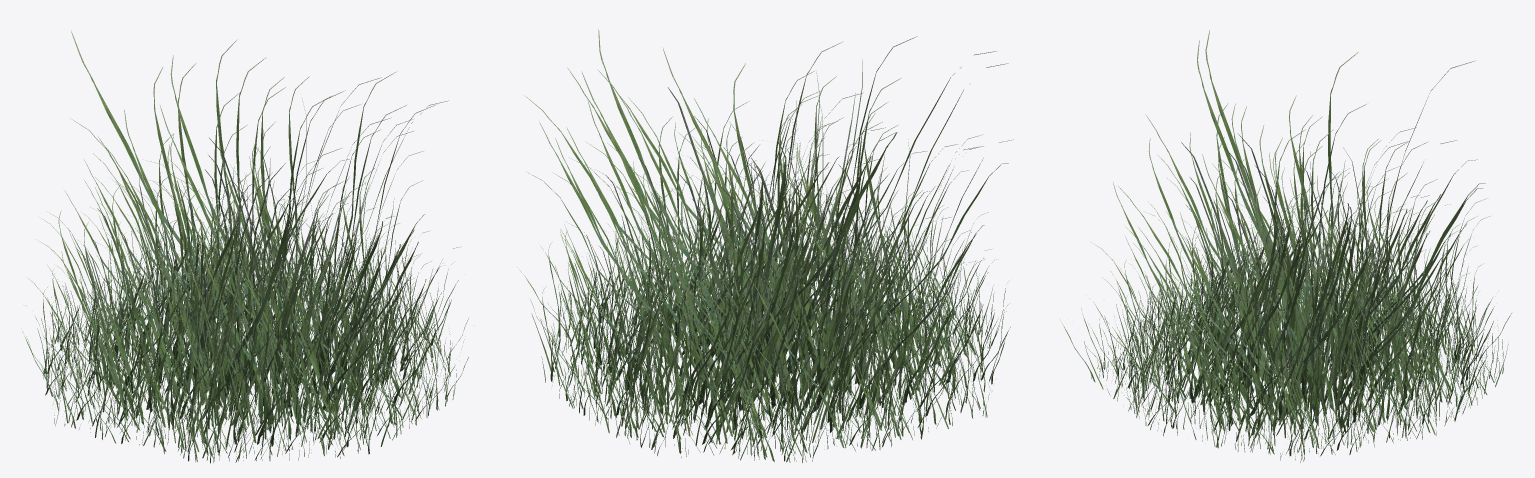
Rendered from BuffaloGrass.glb.
3 views of the same model, side by side, from view 1: azimuth 30°, elevation 25°; view 2: azimuth 150°, elevation 25°; view 3: azimuth 270°, elevation 25° (orthographic). The views are drawn at different scales.
Parts seen in each view (by area): view 1: BuffaloGrass_01, BuffaloGrass_03, BuffaloGrass_02; view 2: BuffaloGrass_03, BuffaloGrass_01, BuffaloGrass_02; view 3: BuffaloGrass_01, BuffaloGrass_03, BuffaloGrass_02.
Boxes of the visible parts, x1,y1,x2,y2 form: BuffaloGrass_01: (21, 30, 458, 463); BuffaloGrass_03: (34, 55, 468, 462); BuffaloGrass_02: (39, 67, 468, 461); BuffaloGrass_03: (530, 29, 1008, 462); BuffaloGrass_01: (517, 41, 1013, 462); BuffaloGrass_02: (524, 36, 1009, 461); BuffaloGrass_01: (1059, 30, 1511, 461); BuffaloGrass_03: (1081, 40, 1508, 460); BuffaloGrass_02: (1084, 103, 1499, 462).
Size of the model in its own units: 0.3266 by 0.2296 by 0.3315.
Materials: 3 (3 with a texture image).
